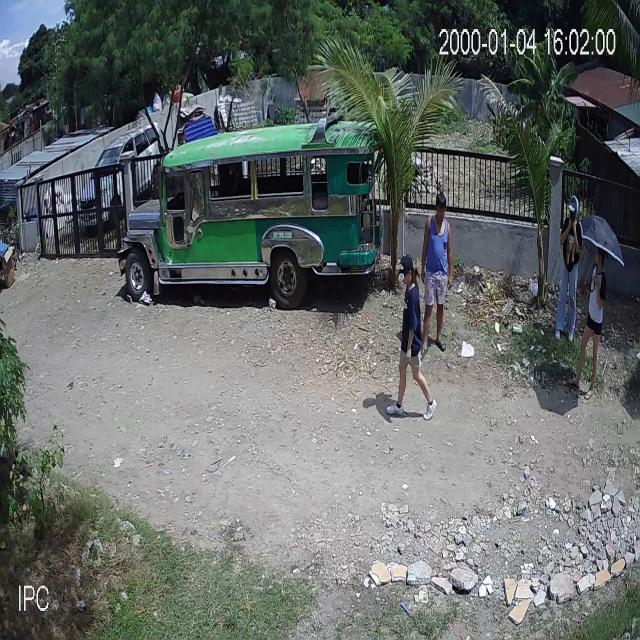standing: (568, 244, 612, 400), (418, 188, 456, 356), (554, 194, 586, 344)
walking: (384, 252, 440, 422)
